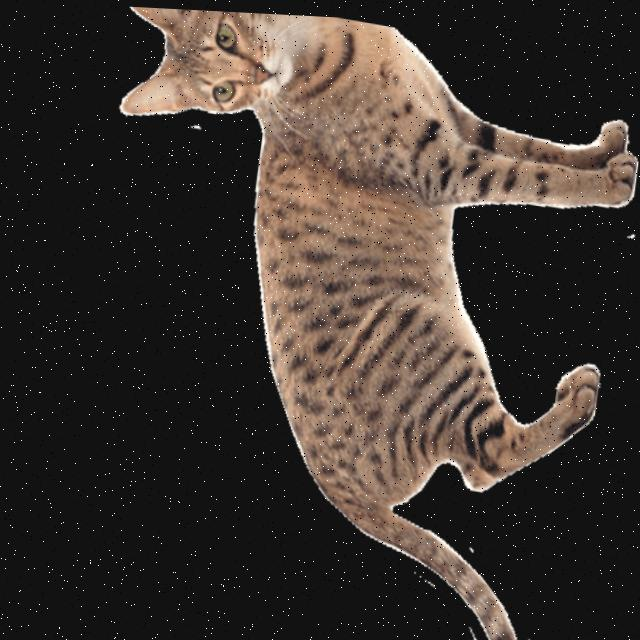Savannah: (36, 2, 640, 640)
